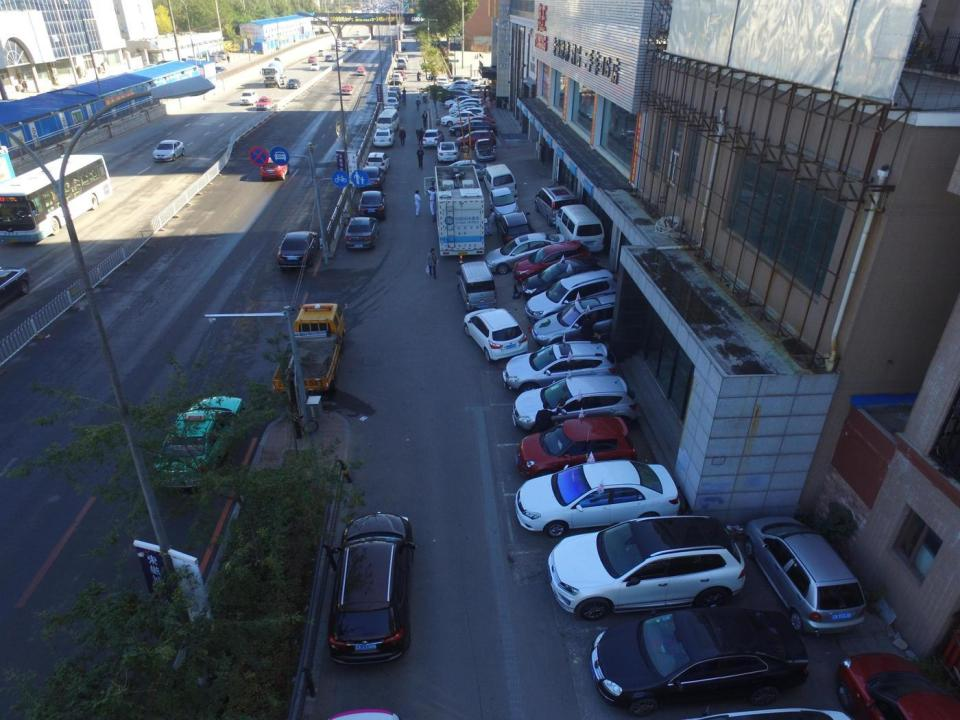bus: (0, 146, 111, 243)
car: (587, 605, 811, 703), (546, 515, 745, 621), (741, 512, 866, 643), (325, 510, 418, 667), (510, 460, 687, 534), (152, 377, 254, 495), (834, 651, 959, 720), (508, 374, 643, 434), (517, 412, 644, 475), (519, 270, 623, 324), (500, 338, 620, 384), (534, 294, 633, 349), (464, 303, 534, 361), (520, 256, 610, 301), (482, 230, 570, 274), (511, 238, 592, 285), (276, 224, 327, 264), (495, 206, 540, 249), (342, 216, 381, 253), (437, 159, 495, 182), (448, 119, 497, 138), (358, 190, 388, 221), (490, 188, 520, 219), (151, 137, 186, 161), (258, 155, 290, 180), (452, 114, 496, 132), (365, 148, 391, 177), (437, 110, 483, 126), (472, 136, 498, 162), (456, 132, 498, 148), (361, 166, 386, 192), (448, 102, 488, 117), (451, 107, 488, 123), (435, 139, 459, 163), (442, 89, 481, 102), (420, 126, 444, 147), (253, 94, 276, 115), (372, 127, 396, 147), (449, 98, 483, 112), (442, 96, 478, 108), (237, 89, 259, 107), (443, 79, 474, 90), (448, 86, 470, 98), (208, 66, 228, 79), (285, 77, 304, 90), (448, 84, 472, 94), (205, 53, 223, 64), (341, 81, 355, 95), (385, 96, 399, 110), (387, 89, 400, 102), (393, 69, 407, 81), (391, 72, 403, 86), (389, 86, 402, 98), (451, 75, 465, 85), (355, 65, 367, 76), (437, 76, 449, 87), (470, 75, 480, 88), (304, 53, 318, 62), (309, 62, 321, 72), (398, 53, 409, 62), (324, 53, 334, 62), (335, 44, 343, 52), (330, 43, 338, 51), (340, 40, 348, 47), (335, 37, 342, 45), (346, 45, 353, 52), (399, 43, 406, 50), (353, 30, 361, 36), (400, 32, 406, 39), (358, 37, 364, 43), (349, 37, 355, 43), (352, 43, 358, 48)
truck: (271, 301, 348, 396), (432, 165, 494, 259)
van: (557, 202, 614, 253), (455, 258, 500, 306), (533, 184, 582, 226), (484, 161, 520, 200), (378, 108, 400, 133), (396, 56, 408, 70), (212, 50, 228, 59), (318, 47, 326, 57)
